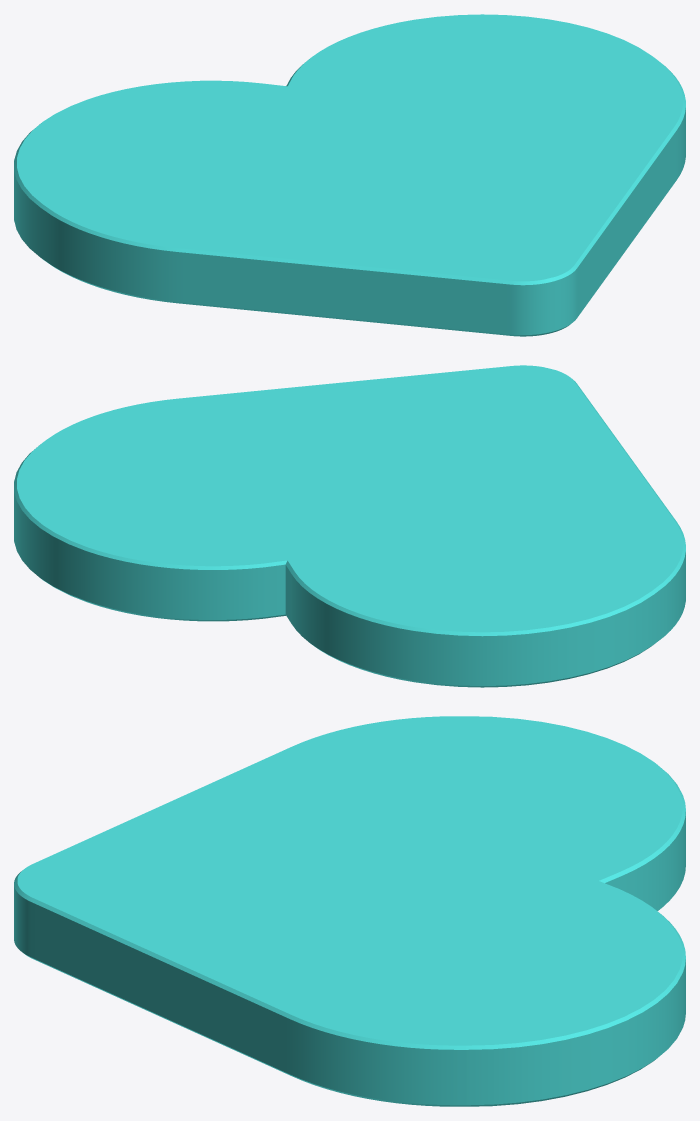
3 views of the same model, one above another, from view 1: azimuth 30°, elevation 25°; view 2: azimuth 150°, elevation 25°; view 3: azimuth 270°, elevation 25° (orthographic). The views are drawn at different scales.
Visible parts, largest first — view 1: HEART; view 2: HEART; view 3: HEART.
Part boxes in pixels (<box>): HEART: <box>14,14,685,336</box>; HEART: <box>14,365,685,687</box>; HEART: <box>14,716,685,1106</box>.
Size of the model in its own units: 0.04 by 0.00343 by 0.0342.
